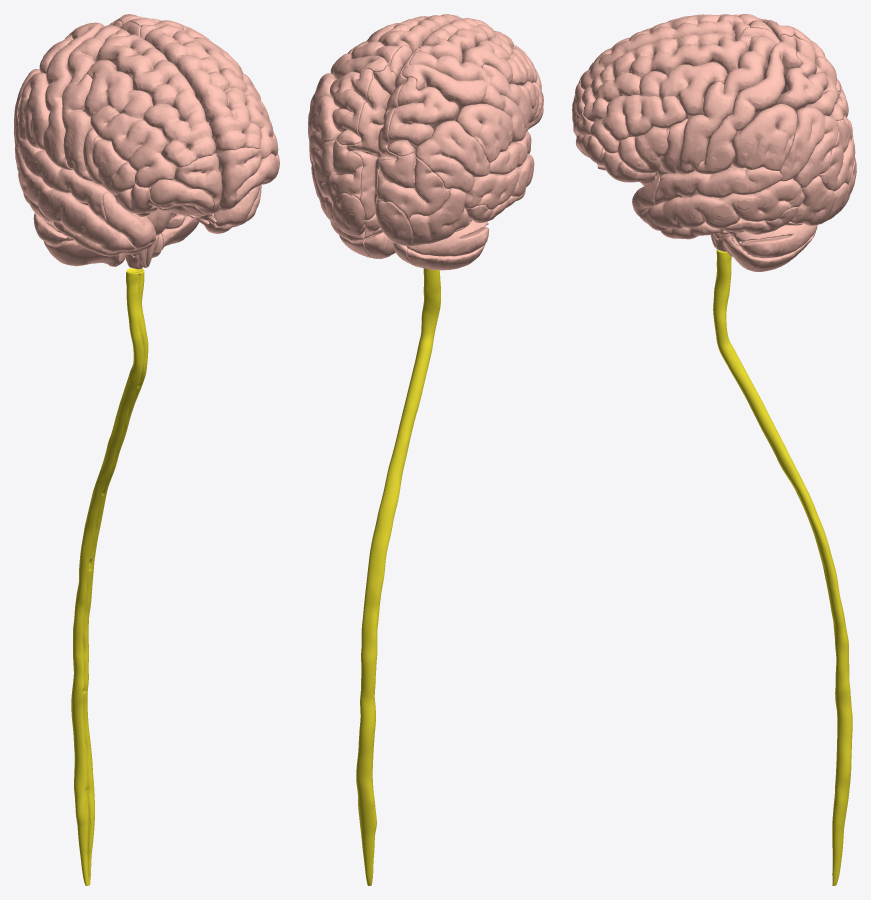
File: female-nervous.glb
The picture shows the model from 3 angles, left to right: view 1: azimuth 30°, elevation 25°; view 2: azimuth 150°, elevation 25°; view 3: azimuth 270°, elevation 25°; orthographic projection. The views are drawn at different scales.
Visible parts, largest first — view 1: Allen_superior_frontal_gyrus_L, Allen_middle_frontal_gyrus_L, Allen_superior_frontal_gyrus_R, Allen_middle_temporal_gyrus_L, Allen_primary_motor_cortex_L, Allen_postcentral_gyrus_L, Allen_superior_temporal_gyrus_L, Allen_middle_frontal_gyrus_R, Allen_supramarginal_gyrus_L, Allen_rostral_gyrus_R, Allen_lateral_hemisphere_of_cerebellum_L, Allen_inferior_frontal_gyrus_triangular_part_L (+13 smaller); view 2: Allen_angular_gyrus_L, Allen_supraparietal_lobule_L, Allen_superior_occipital_gyrus_L, Allen_postcentral_gyrus_L, Allen_lateral_hemisphere_of_cerebellum_L, Allen_superior_occipital_gyrus_R, Allen_primary_motor_cortex_L, Allen_supraparietal_lobule_R, Allen_supramarginal_gyrus_L, Allen_middle_frontal_gyrus_L, Allen_superior_frontal_gyrus_L, Allen_inferior_occipital_gyrus_L (+21 smaller); view 3: Allen_middle_frontal_gyrus_R, Allen_superior_frontal_gyrus_R, Allen_middle_temporal_gyrus_R, Allen_primary_motor_cortex_R, Allen_postcentral_gyrus_R, Allen_supramarginal_gyrus_R, Allen_angular_gyrus_R, Allen_superior_temporal_gyrus_R, Allen_lateral_hemisphere_of_cerebellum_R, Allen_superior_frontal_gyrus_L, Allen_supraparietal_lobule_R, Allen_inferior_frontal_gyrus_triangular_part_R (+7 smaller).
Boxes of the visible parts, bbox=[...] form: Allen_superior_frontal_gyrus_L: bbox=[95, 30, 215, 167]; Allen_middle_frontal_gyrus_L: bbox=[84, 59, 176, 187]; Allen_superior_frontal_gyrus_R: bbox=[140, 23, 261, 154]; Allen_middle_temporal_gyrus_L: bbox=[15, 147, 134, 252]; Allen_primary_motor_cortex_L: bbox=[62, 25, 119, 181]; Allen_postcentral_gyrus_L: bbox=[43, 22, 104, 169]; Allen_superior_temporal_gyrus_L: bbox=[18, 139, 111, 224]; Allen_middle_frontal_gyrus_R: bbox=[194, 37, 278, 158]; Allen_supramarginal_gyrus_L: bbox=[18, 72, 49, 150]; Allen_rostral_gyrus_R: bbox=[216, 147, 261, 210]; Allen_lateral_hemisphere_of_cerebellum_L: bbox=[33, 213, 118, 266]; Allen_inferior_frontal_gyrus_triangular_part_L: bbox=[92, 137, 136, 195]; Allen_angular_gyrus_L: bbox=[415, 120, 489, 192]; Allen_supraparietal_lobule_L: bbox=[387, 77, 458, 156]; Allen_superior_occipital_gyrus_L: bbox=[377, 153, 450, 220]; Allen_postcentral_gyrus_L: bbox=[401, 64, 526, 142]; Allen_lateral_hemisphere_of_cerebellum_L: bbox=[406, 220, 489, 270]; Allen_superior_occipital_gyrus_R: bbox=[314, 139, 363, 204]; Allen_primary_motor_cortex_L: bbox=[409, 50, 529, 131]; Allen_supraparietal_lobule_R: bbox=[330, 68, 372, 145]; Allen_supramarginal_gyrus_L: bbox=[455, 103, 512, 162]; Allen_middle_frontal_gyrus_L: bbox=[462, 36, 541, 88]; Allen_superior_frontal_gyrus_L: bbox=[419, 18, 518, 63]; Allen_inferior_occipital_gyrus_L: bbox=[408, 188, 471, 246]; Allen_middle_frontal_gyrus_R: bbox=[590, 62, 727, 153]; Allen_superior_frontal_gyrus_R: bbox=[582, 33, 751, 122]; Allen_middle_temporal_gyrus_R: bbox=[639, 178, 804, 230]; Allen_primary_motor_cortex_R: bbox=[675, 36, 775, 174]; Allen_postcentral_gyrus_R: bbox=[695, 42, 801, 174]; Allen_supramarginal_gyrus_R: bbox=[731, 104, 797, 170]; Allen_angular_gyrus_R: bbox=[779, 107, 838, 188]; Allen_superior_temporal_gyrus_R: bbox=[654, 167, 782, 205]; Allen_lateral_hemisphere_of_cerebellum_R: bbox=[718, 223, 817, 271]; Allen_superior_frontal_gyrus_L: bbox=[580, 14, 750, 89]; Allen_supraparietal_lobule_R: bbox=[775, 51, 843, 120]; Allen_inferior_frontal_gyrus_triangular_part_R: bbox=[617, 126, 669, 173].
Size of the model in its own units: 0.1364 by 0.5552 by 0.167.
